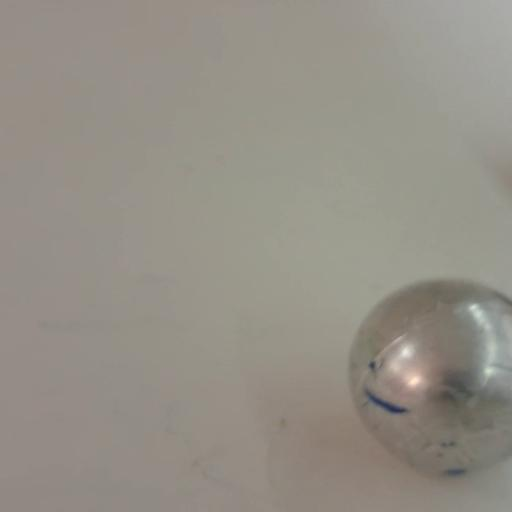alive: (343, 275, 512, 484)
